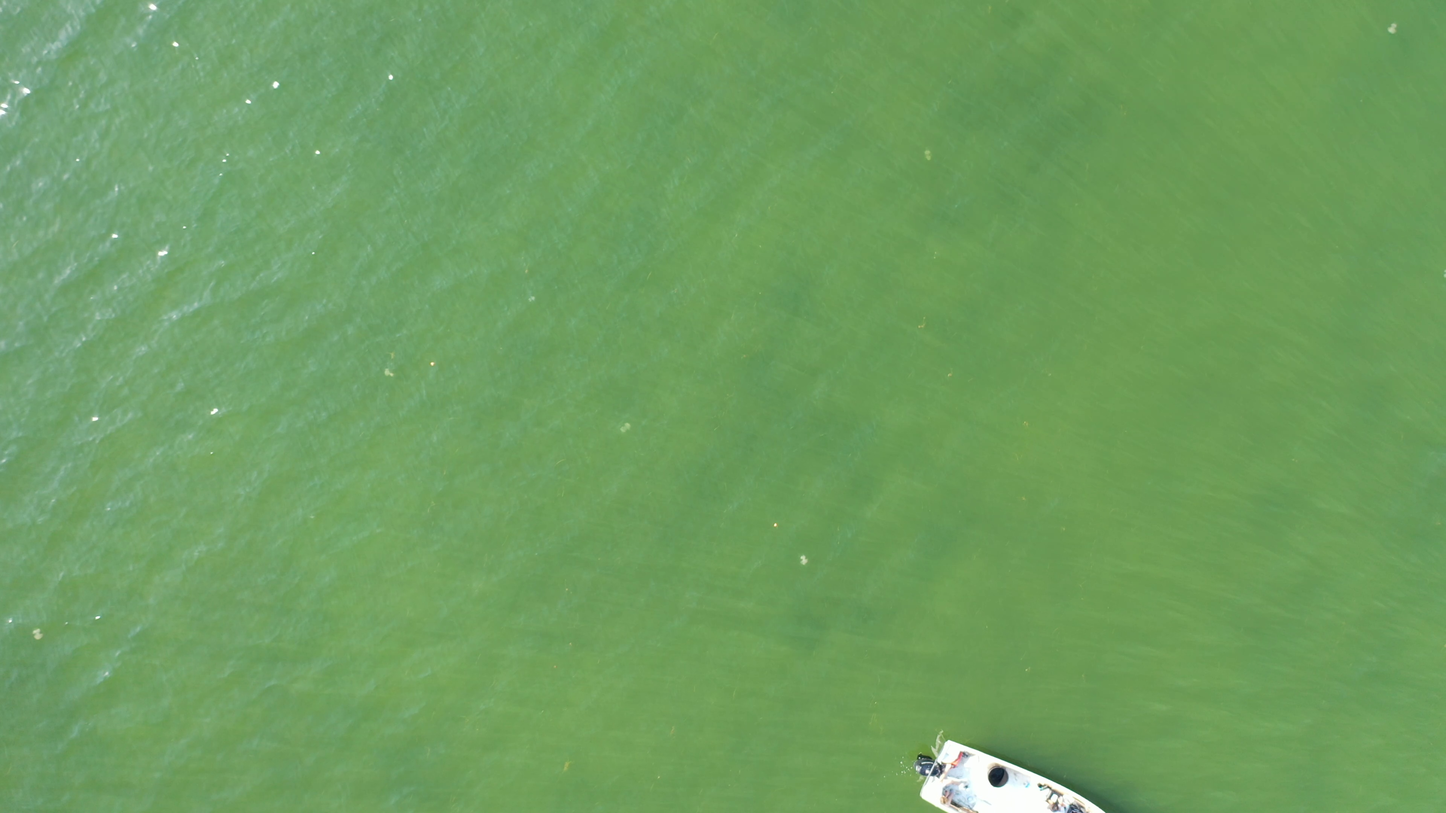meduse: (619, 423, 631, 433), (1387, 23, 1398, 33), (799, 555, 808, 566), (32, 630, 43, 639), (925, 150, 933, 162), (384, 369, 395, 377), (528, 296, 536, 301)
